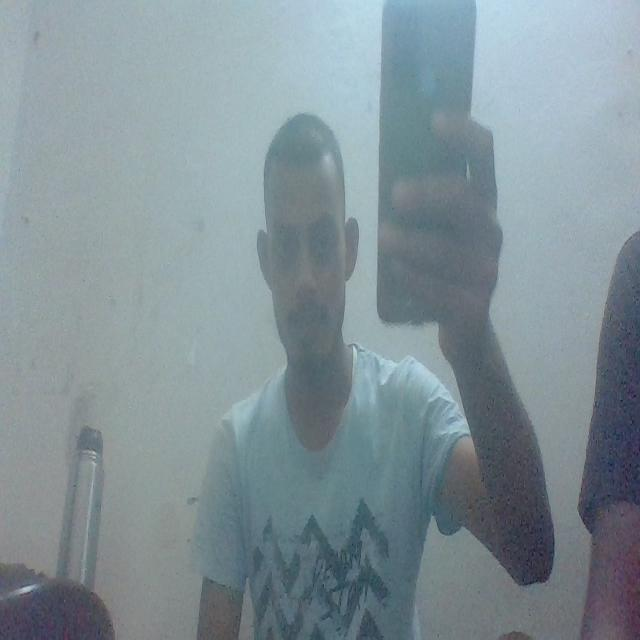Phone: (373, 0, 479, 329)
